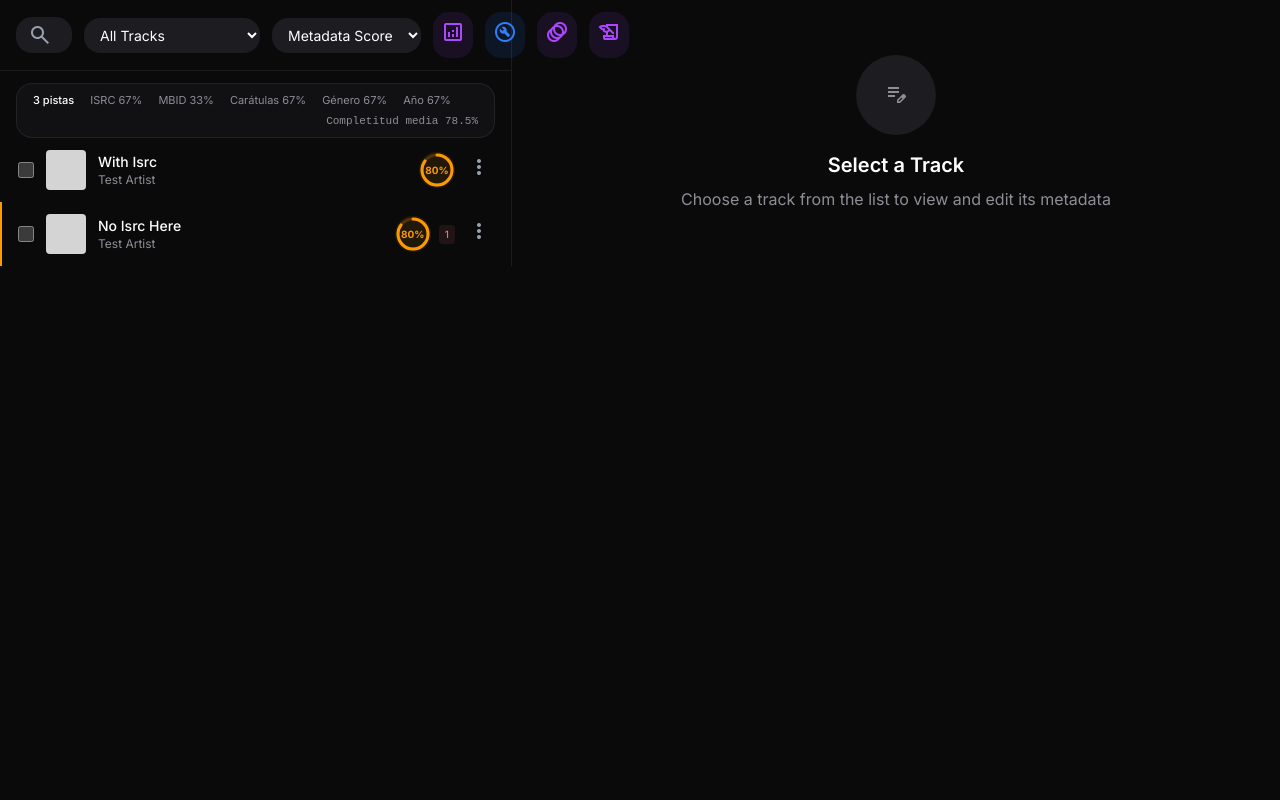
it: MetadataView (fully wired tab) › clicking a quality-report issue filters the list to the affected subset
Click the button titled "Analyze Quality" at (453, 35), box [433,12,473,58]
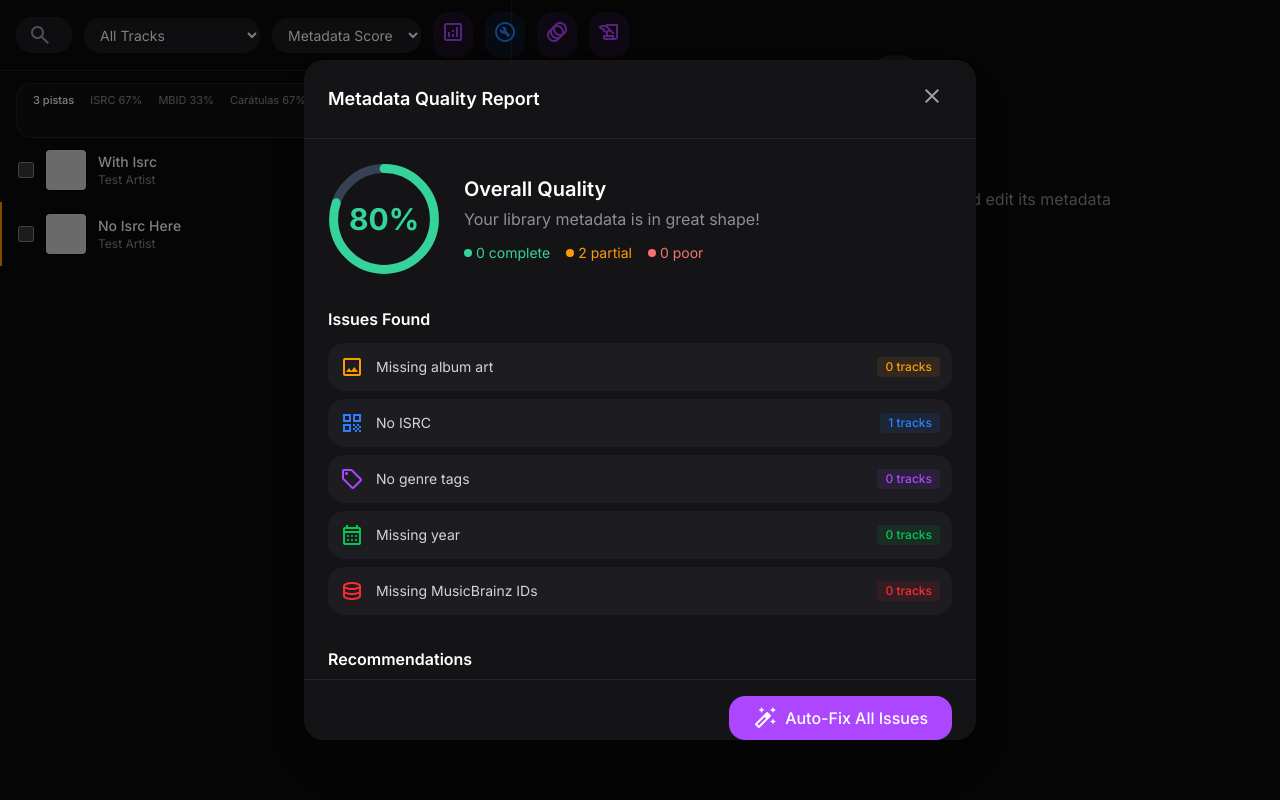
Click the button "No ISRC 1 tracks" at (403, 422), box [328,399,952,447]
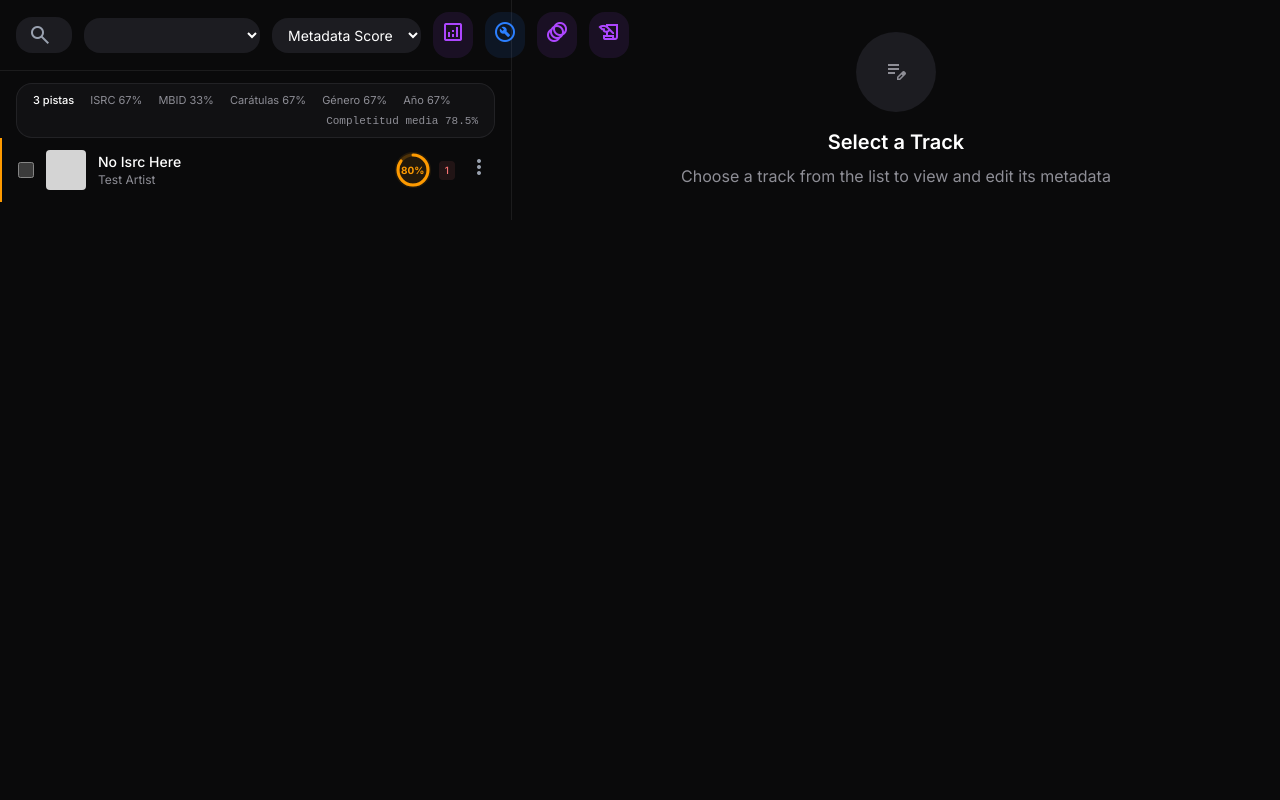
Expected: the text "No Isrc Here" is shown, [98,153,181,170]
Now the text "With Isrc" is gone
